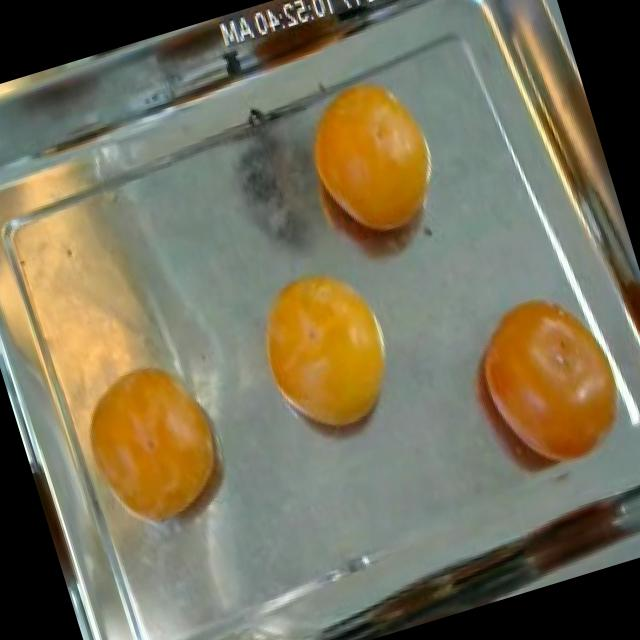Fruit: (426, 258, 640, 515), (275, 55, 470, 278), (63, 348, 252, 556), (235, 244, 420, 456)
